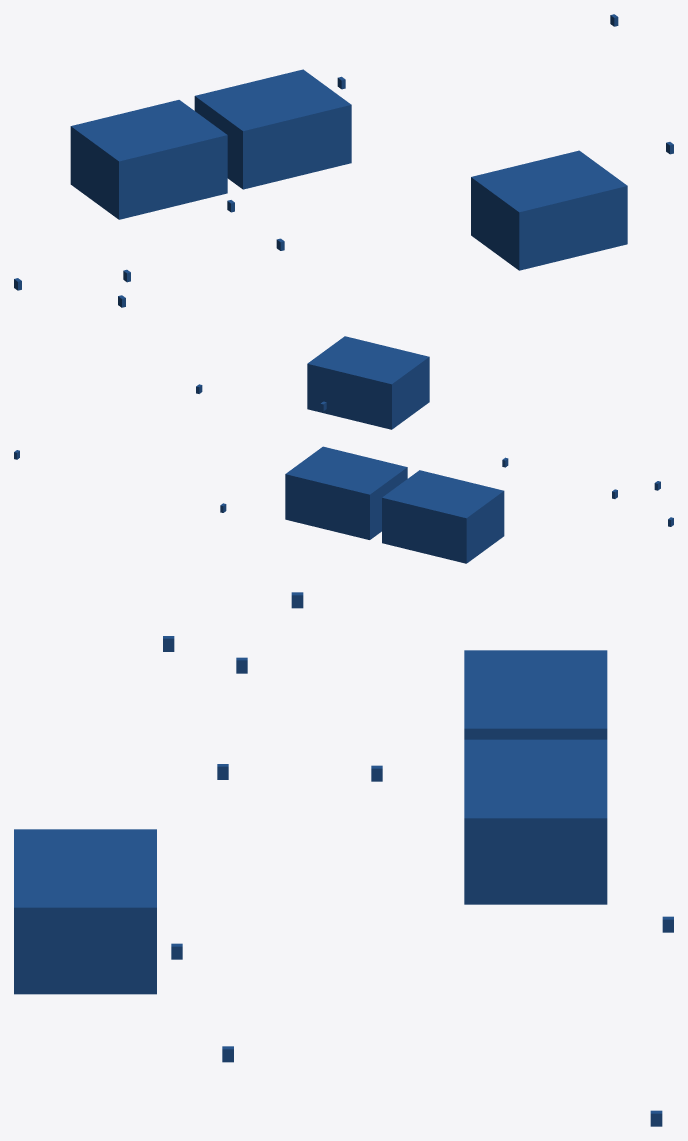
File: SM_DK_09_Paddock_transporters_tents_and_service_equipment_blue.fbx
3 renders of one model, top to bottom at view 1: azimuth 30°, elevation 25°; view 2: azimuth 150°, elevation 25°; view 3: azimuth 270°, elevation 25°, orthographic. The views are drawn at different scales.
Visible parts, largest first — view 1: 09 Paddock transporters tents and service equipment | blue; view 2: 09 Paddock transporters tents and service equipment | blue; view 3: 09 Paddock transporters tents and service equipment | blue.
Boxes of the visible parts, x1,y1,x2,y2 form: 09 Paddock transporters tents and service equipment | blue: (14, 14, 673, 307); 09 Paddock transporters tents and service equipment | blue: (14, 336, 673, 563); 09 Paddock transporters tents and service equipment | blue: (14, 592, 673, 1126).
Bounding box in the file's own units: 4656 × 2491 × 360.
